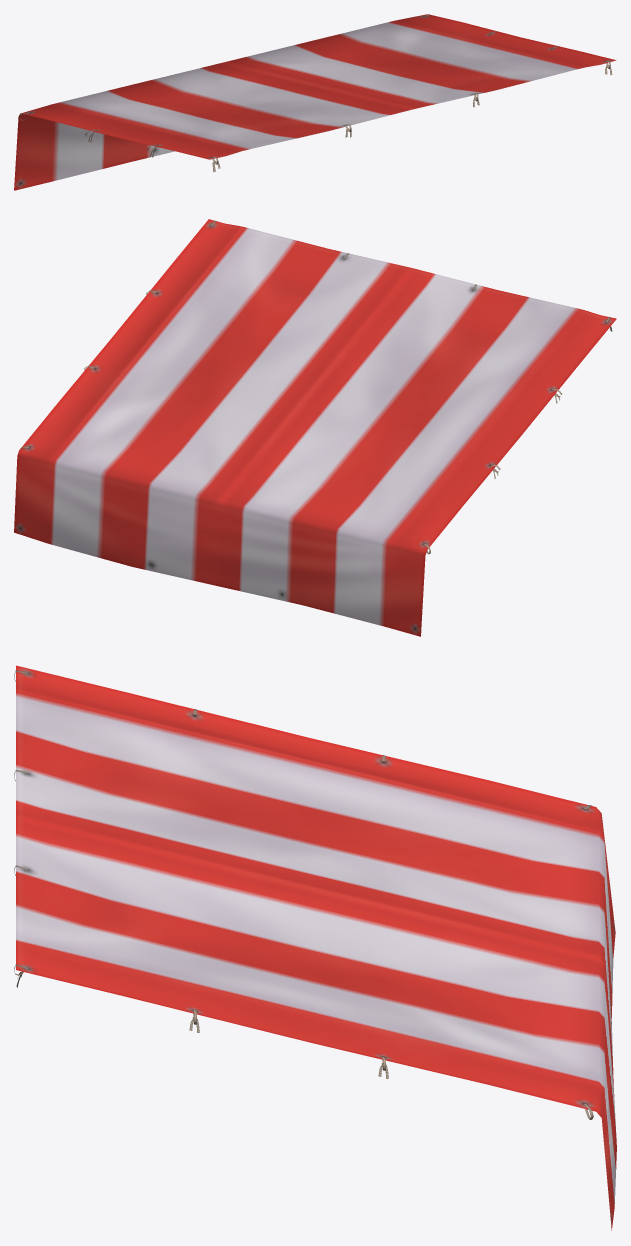
The model's file is jsf_Ceiling_s02_c01_t01.fbx.
3 views of the same model, one above another, from view 1: azimuth 30°, elevation 25°; view 2: azimuth 150°, elevation 25°; view 3: azimuth 270°, elevation 25° (orthographic). The views are drawn at different scales.
Visible parts, largest first — view 1: jsf_Ceiling_s02_c01_t01; view 2: jsf_Ceiling_s02_c01_t01; view 3: jsf_Ceiling_s02_c01_t01.
Boxes of the visible parts, x1=… form: jsf_Ceiling_s02_c01_t01: x1=14, y1=14, x2=616, y2=190; jsf_Ceiling_s02_c01_t01: x1=14, y1=219, x2=616, y2=636; jsf_Ceiling_s02_c01_t01: x1=14, y1=665, x2=616, y2=1230.
Bounding box in the file's own units: 263 × 106 × 216.
